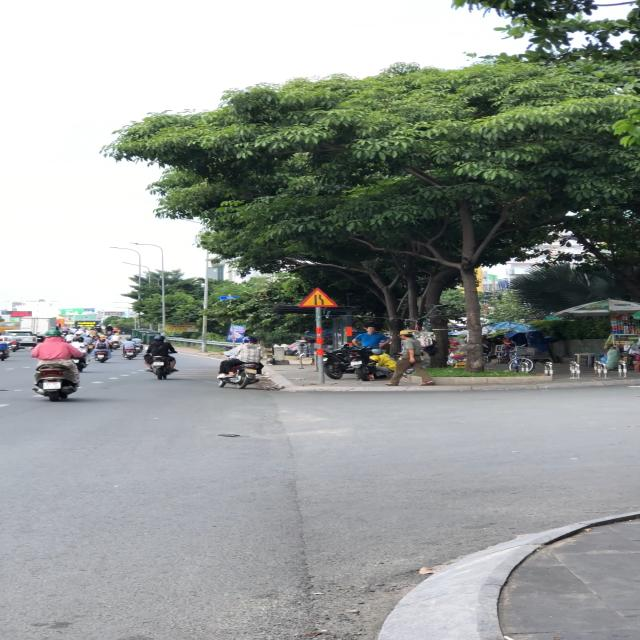Bien bao duong bi thu hep: (297, 287, 337, 308)
